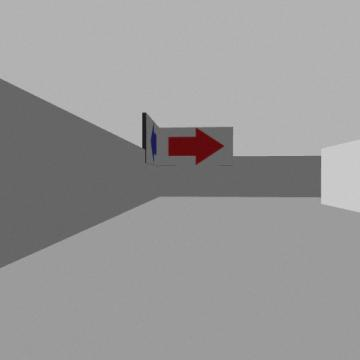blue_left: (151, 124, 156, 161)
red_right: (169, 128, 223, 164)
